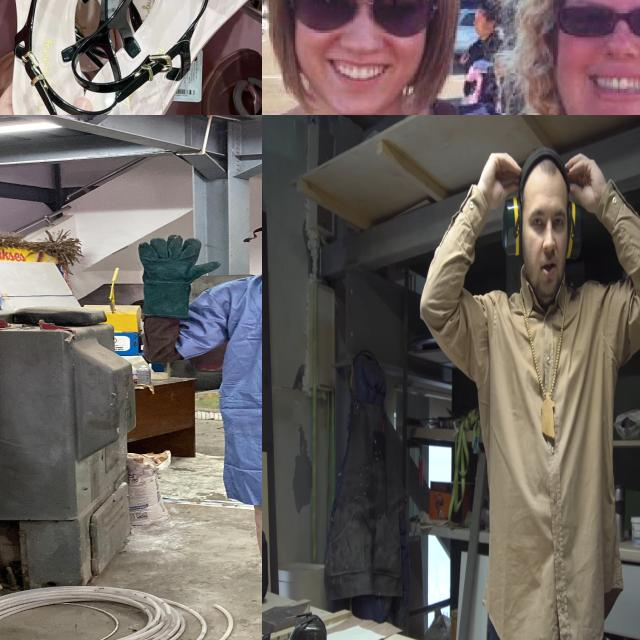Ear-protection: (502, 144, 581, 311)
Sandals: (0, 0, 262, 115)
face_nomask: (291, 0, 428, 91), (554, 0, 640, 105)
glasses: (280, 0, 434, 45), (554, 0, 640, 46)
hand_glove: (128, 232, 231, 290)
person: (416, 118, 640, 640), (126, 186, 262, 640), (262, 0, 512, 115), (472, 0, 640, 115)
